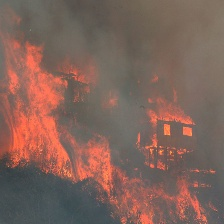fire: (3, 51, 105, 183), (115, 173, 210, 223), (138, 93, 192, 163)
smoke: (71, 7, 224, 98)
